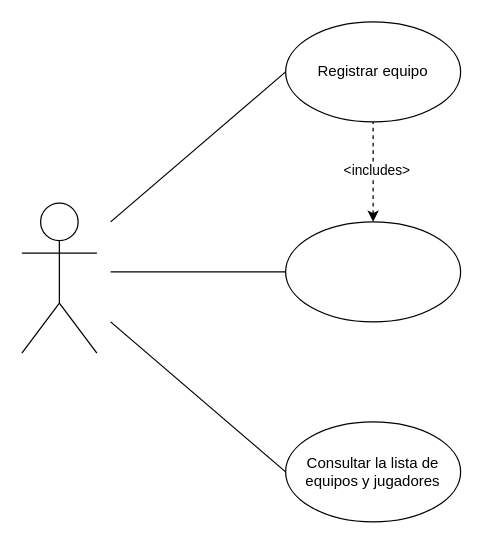
Image size: 483x544. Some labels were removed from this diagram. Here are the shapes that lost their labels. From the top down, the box of each, then its label:
(21, 202, 97, 353): Usuario
(284, 221, 461, 322): Añadir jugadores a un equipo
